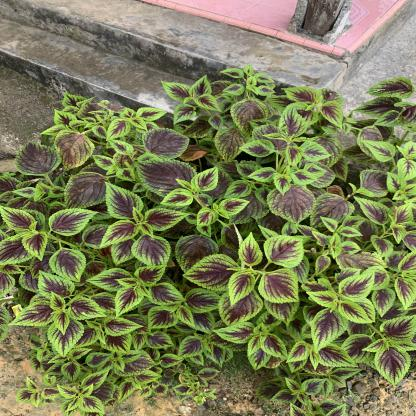Bunga Coleus: (17, 108, 413, 370)
